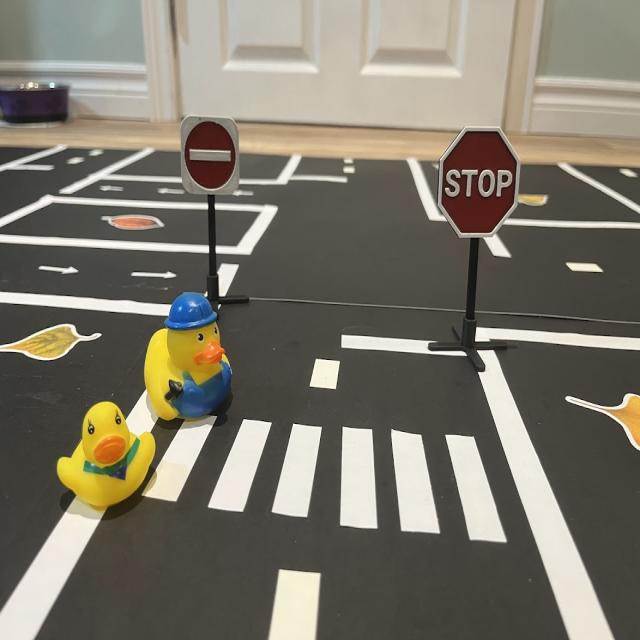duck_regular: (57, 403, 159, 514)
duck_specialty: (144, 293, 234, 427)
road_crosswalk: (136, 418, 517, 552)
road_oneway: (128, 266, 182, 284), (153, 181, 189, 201), (36, 264, 83, 278), (98, 183, 128, 196), (229, 188, 256, 202)
sign_noentry: (182, 117, 241, 197)
sign_stop: (438, 128, 522, 240)
